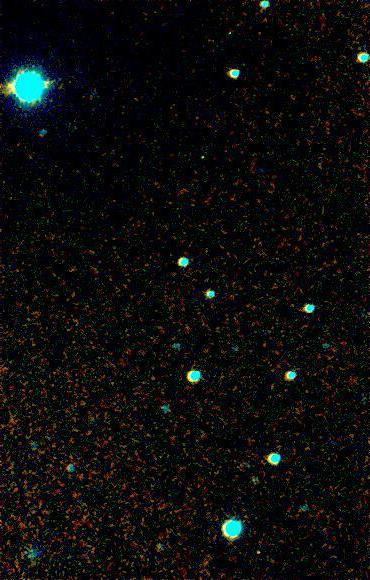star: (33, 67, 63, 97)
